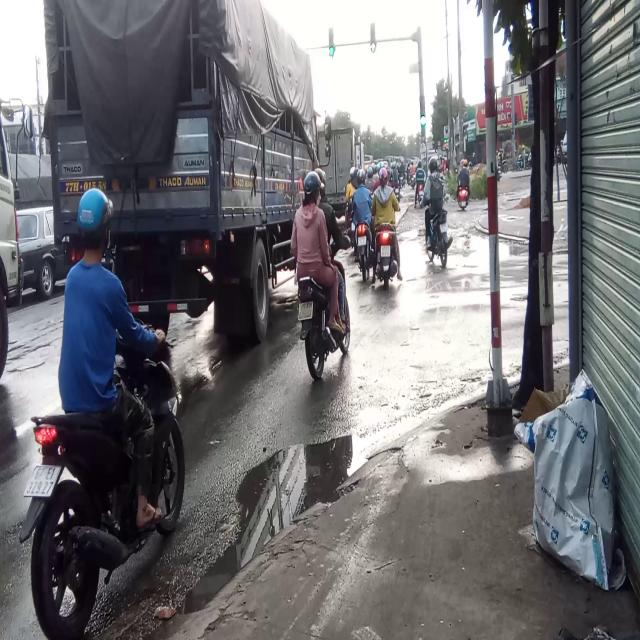bien_trang: (22, 464, 58, 502)
